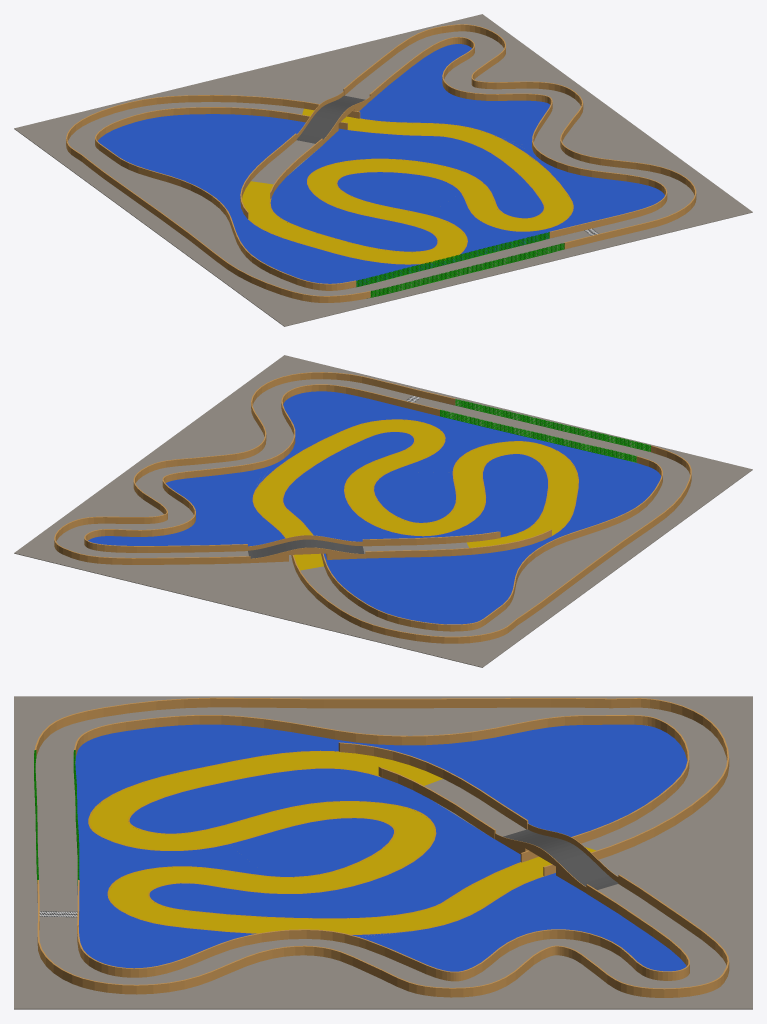
File: BWSI2017.dae
The picture shows the model from 3 angles, top to bottom: view 1: azimuth 30°, elevation 25°; view 2: azimuth 150°, elevation 25°; view 3: azimuth 270°, elevation 25°; orthographic projection. The views are drawn at different scales.
Parts seen in each view (by area): view 1: E1068573_001; view 2: E1068573_001; view 3: E1068573_001.
Part boxes in pixels (x1,y1,x2,y2): E1068573_001: [14, 14, 752, 326]; E1068573_001: [14, 355, 752, 667]; E1068573_001: [14, 696, 752, 1009].
Size of the model in its own units: 22.86 by 22.86 by 0.635.
